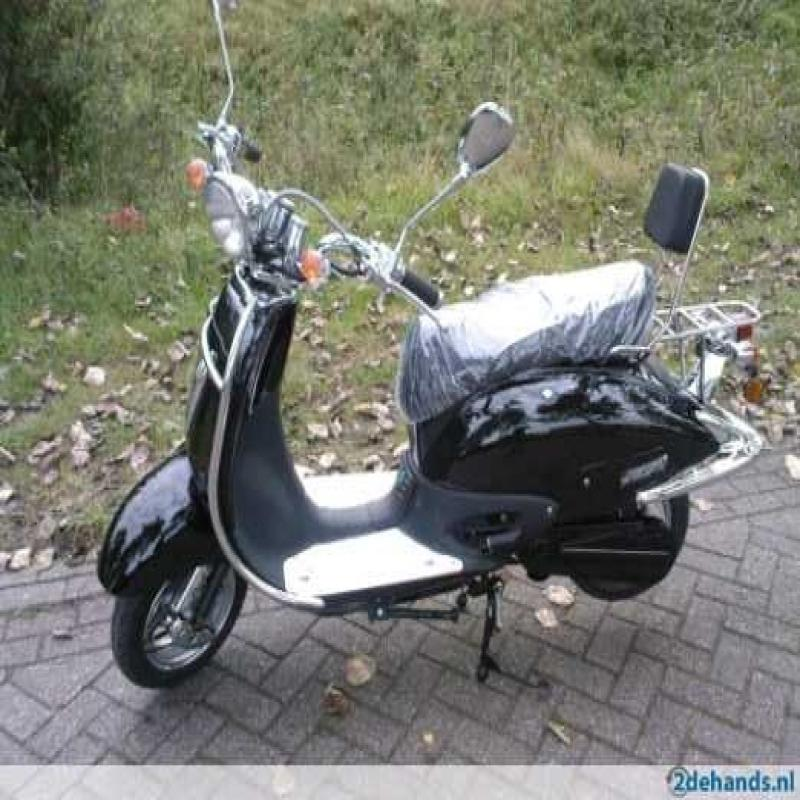bike: (84, 120, 753, 666)
